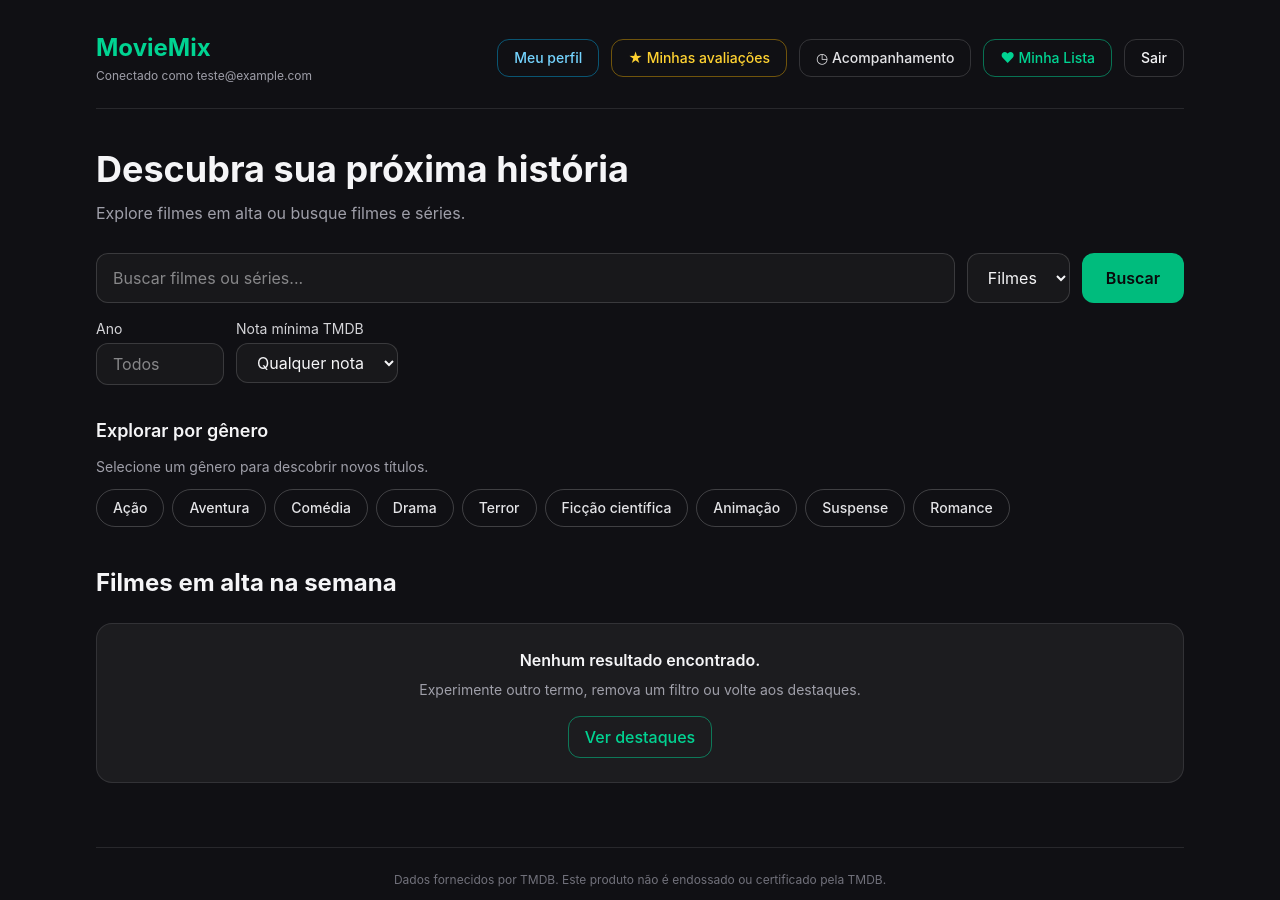
Test: exploração por gênero › loads selected movie genre and switches to TV genres
The image size is (1280, 900).
Expected: the text "Nenhum resultado encontrado." is shown, [520,650,760,670]
Click the button "Ação". click: (130, 508)
box: [96,489,164,527]
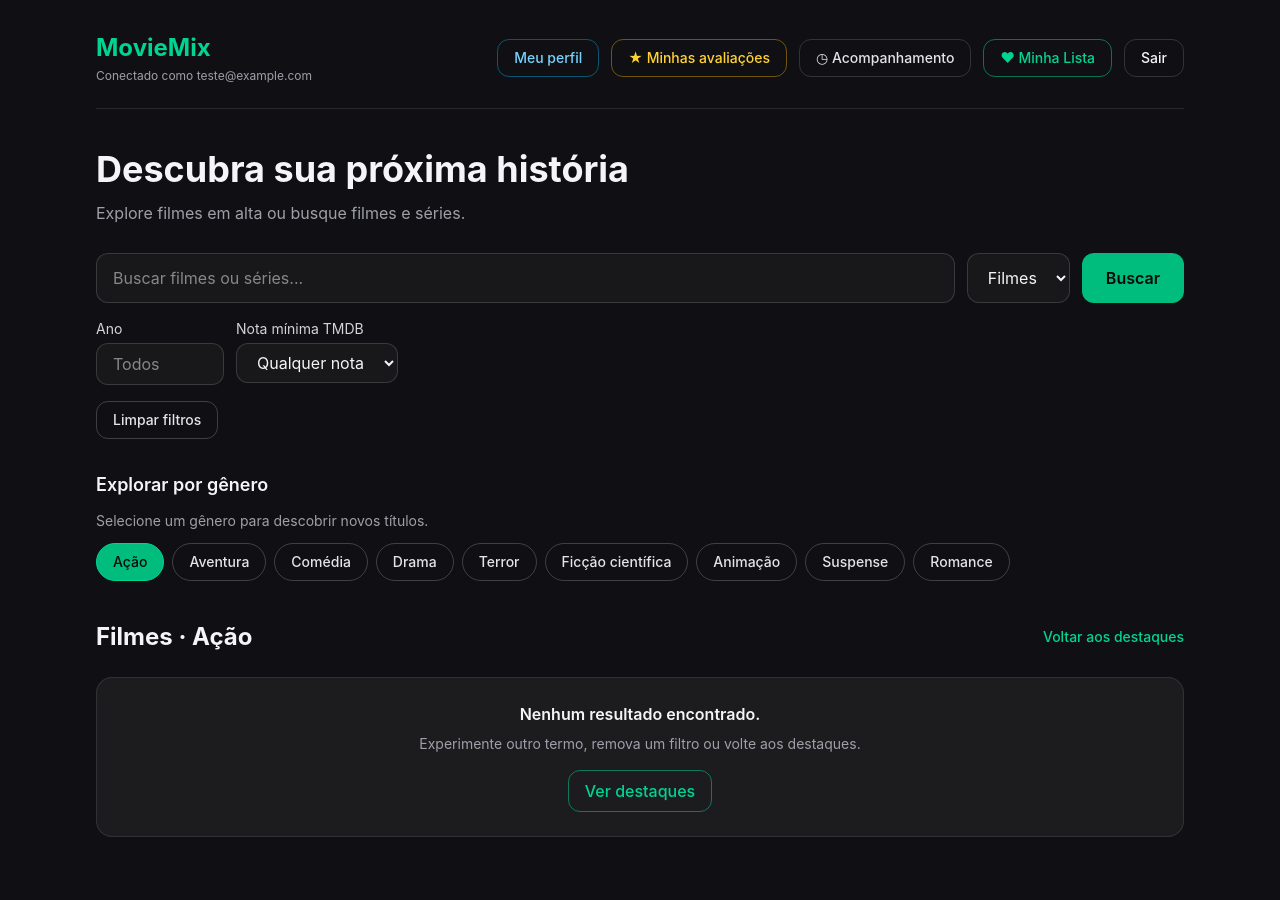
Now the heading "Filmes · Ação" is shown, box [96,621,252,653]
Select "Séries" in the dropdown named "Tipo de conteúdo". click: (1018, 278)
box: [967,253,1070,303]
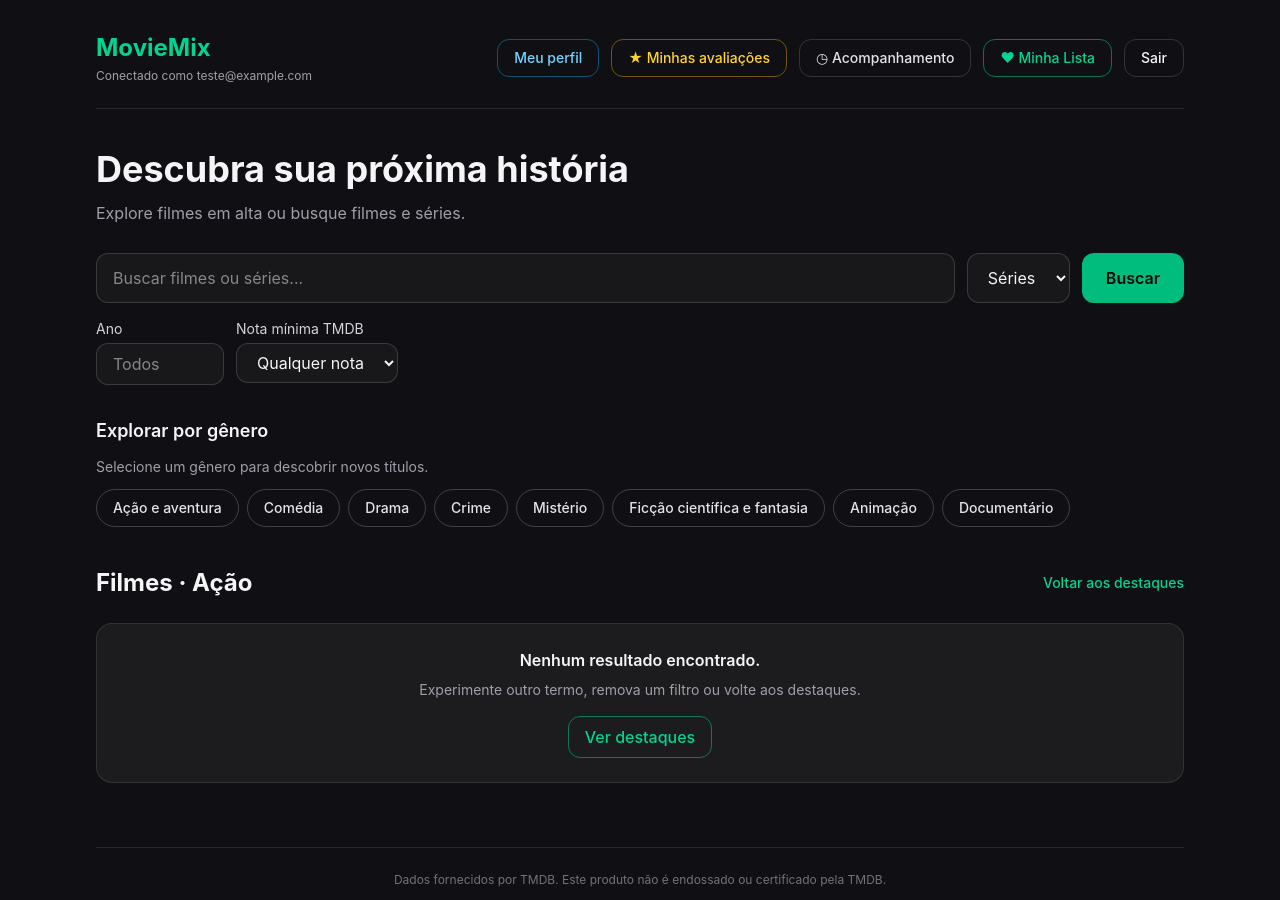
Click the button "Crime". click: (471, 508)
box: [434,489,508,527]
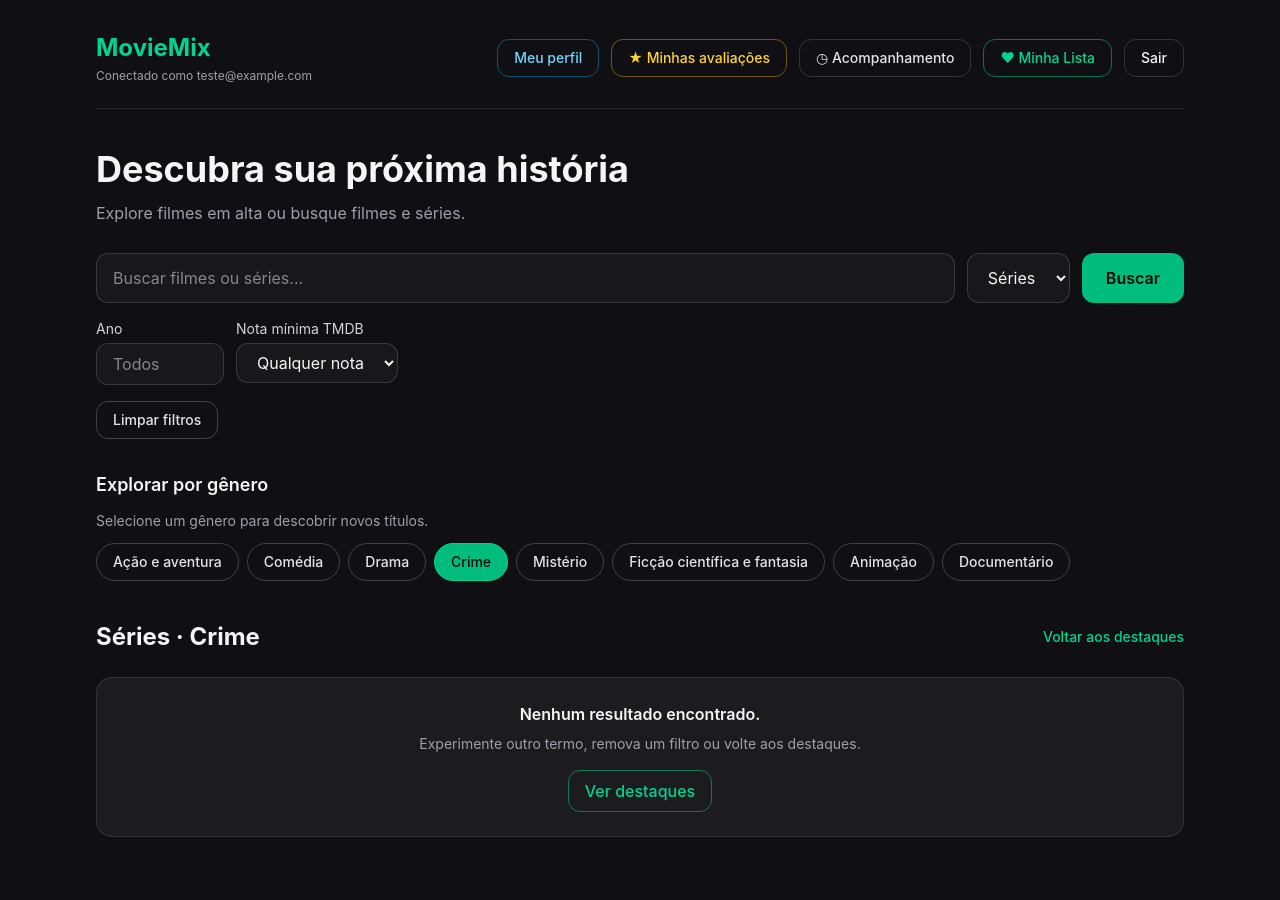
Now the heading "Séries · Crime" is shown, box [96,621,260,653]
